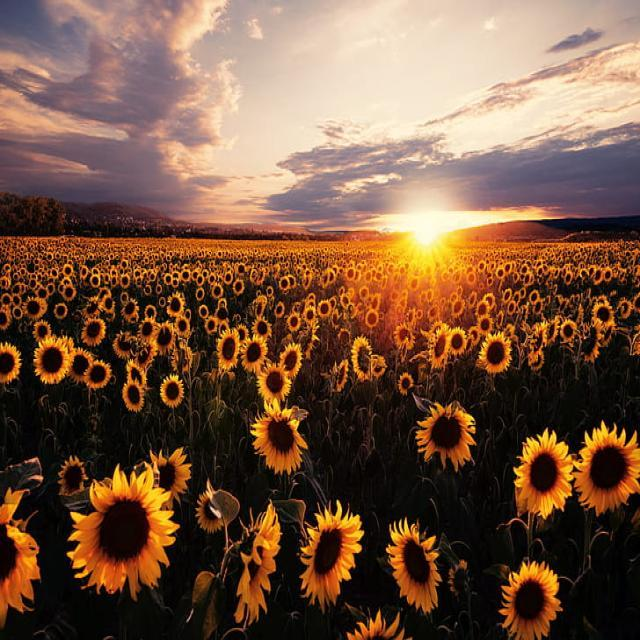sunflower: (66, 462, 180, 600), (297, 499, 364, 611), (232, 498, 281, 626), (573, 420, 639, 514), (512, 426, 574, 519), (384, 516, 442, 614), (0, 487, 40, 626), (498, 558, 562, 639), (414, 399, 476, 472), (250, 397, 308, 475), (146, 445, 192, 512), (346, 607, 406, 639), (32, 335, 68, 384), (476, 332, 512, 374), (256, 362, 291, 405), (56, 454, 88, 496), (195, 491, 225, 534), (240, 334, 268, 374), (216, 329, 240, 372), (350, 335, 372, 380), (66, 346, 92, 384), (580, 320, 602, 364), (427, 328, 450, 370), (298, 320, 321, 360), (0, 341, 21, 384), (150, 320, 175, 356), (83, 358, 111, 390), (159, 373, 184, 408), (278, 342, 302, 378), (121, 377, 144, 412), (52, 335, 76, 368), (81, 316, 105, 346), (448, 558, 468, 594), (125, 358, 147, 390), (171, 341, 192, 372), (590, 301, 614, 327), (112, 330, 134, 358), (24, 294, 46, 320), (138, 315, 159, 342), (420, 321, 447, 342), (528, 322, 548, 350), (392, 324, 414, 349), (448, 326, 466, 356), (410, 352, 428, 382), (252, 316, 272, 341), (166, 290, 185, 316), (544, 316, 560, 346), (122, 298, 140, 324), (396, 370, 414, 394), (559, 318, 576, 343), (33, 319, 51, 342), (527, 349, 545, 372), (174, 314, 191, 338), (476, 314, 493, 338), (336, 358, 348, 392), (599, 323, 616, 346), (84, 296, 100, 316), (302, 304, 316, 326), (237, 324, 250, 346), (287, 312, 301, 332), (619, 298, 632, 319), (370, 361, 386, 378), (475, 300, 490, 318), (406, 306, 418, 328), (366, 308, 379, 328), (102, 294, 115, 314), (318, 299, 332, 317), (62, 284, 76, 302), (338, 328, 351, 347), (452, 298, 465, 316), (205, 316, 218, 334), (54, 302, 68, 318), (574, 303, 585, 323), (468, 326, 480, 344), (503, 322, 515, 340), (592, 266, 604, 284), (465, 334, 475, 355), (400, 338, 408, 363), (331, 310, 341, 330), (0, 308, 10, 328), (427, 306, 440, 321), (529, 289, 541, 305), (344, 302, 356, 318), (370, 293, 380, 312), (484, 292, 495, 309), (215, 306, 228, 320), (144, 305, 156, 320), (557, 298, 568, 314), (233, 278, 244, 294), (218, 321, 228, 338), (98, 287, 110, 301), (0, 292, 12, 306), (36, 286, 48, 300), (255, 298, 264, 316), (633, 290, 640, 313), (532, 298, 542, 314), (340, 294, 350, 310), (302, 274, 312, 290), (322, 268, 330, 288), (602, 266, 612, 282), (496, 310, 504, 329), (274, 302, 284, 317), (280, 276, 290, 291), (212, 285, 223, 298), (507, 300, 517, 314), (199, 305, 209, 319), (120, 274, 130, 288), (346, 268, 356, 282), (380, 274, 390, 288), (410, 276, 420, 290), (503, 288, 511, 305), (468, 291, 476, 308), (258, 268, 266, 285), (564, 271, 574, 284), (195, 272, 204, 286), (287, 274, 296, 288), (534, 260, 543, 274), (372, 354, 384, 364), (12, 306, 22, 318), (12, 282, 22, 294), (28, 277, 38, 289), (236, 264, 246, 276), (208, 273, 217, 286), (224, 272, 233, 285), (512, 290, 520, 304), (518, 286, 526, 300), (260, 294, 268, 308), (182, 268, 190, 282), (196, 288, 204, 302), (328, 269, 336, 283), (396, 302, 404, 316), (426, 288, 434, 302), (468, 272, 476, 286), (103, 272, 112, 284), (133, 268, 142, 280), (143, 284, 152, 296), (520, 305, 528, 318), (90, 274, 98, 287), (47, 283, 55, 296), (110, 275, 118, 288), (360, 285, 368, 298), (250, 268, 258, 281), (419, 291, 427, 304), (598, 294, 608, 304), (120, 259, 129, 270), (329, 296, 336, 310), (450, 292, 458, 304), (456, 284, 464, 296), (164, 273, 172, 285), (192, 270, 200, 282), (266, 285, 274, 297), (376, 270, 384, 282), (478, 260, 486, 272), (536, 265, 544, 277), (12, 294, 20, 305), (292, 301, 300, 312), (504, 262, 512, 273), (159, 296, 166, 308), (268, 296, 274, 310), (337, 286, 344, 298), (354, 269, 361, 281), (306, 298, 314, 308), (364, 272, 372, 282), (496, 268, 504, 278), (580, 268, 588, 278), (186, 307, 192, 320), (416, 309, 423, 320), (523, 275, 530, 286), (513, 272, 520, 283), (134, 278, 142, 287), (489, 303, 496, 313), (202, 268, 209, 278), (62, 278, 70, 286), (489, 262, 497, 270), (59, 282, 64, 294), (156, 284, 162, 294), (332, 264, 338, 274), (522, 264, 528, 274), (528, 274, 534, 284), (554, 269, 560, 278), (172, 278, 178, 286), (304, 268, 310, 276), (519, 273, 525, 281), (172, 271, 178, 278), (487, 270, 492, 278), (308, 292, 314, 298), (488, 278, 492, 286)
